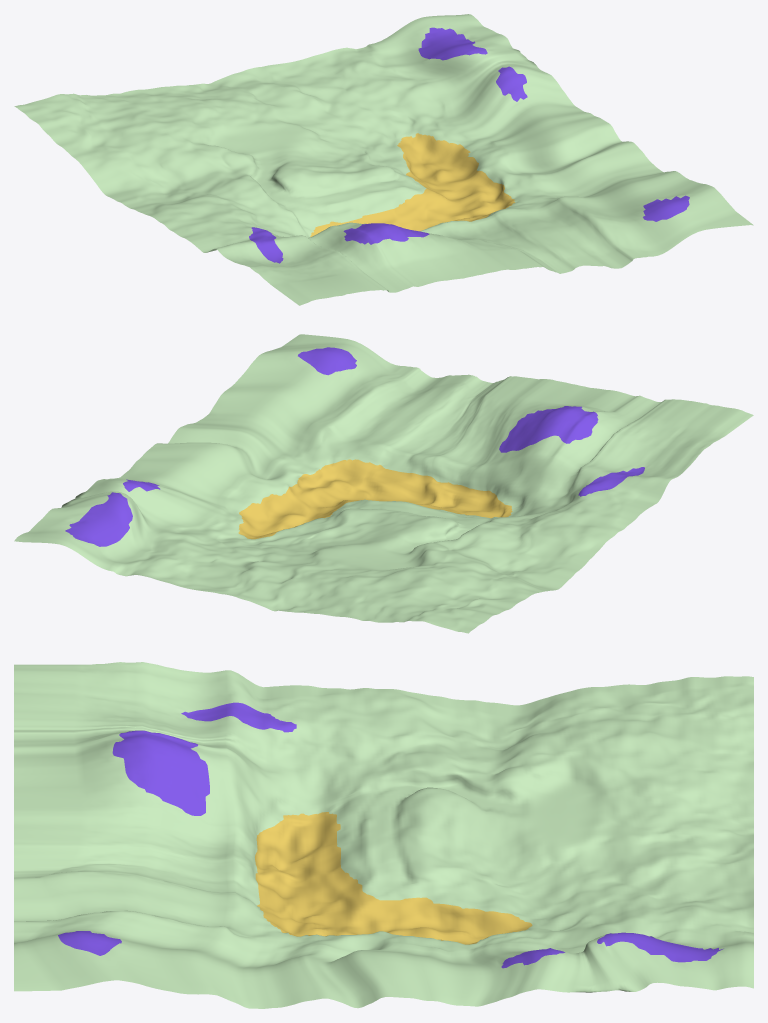
The model's file is Level.fbx.
The picture shows the model from 3 angles, top to bottom: view 1: azimuth 30°, elevation 25°; view 2: azimuth 150°, elevation 25°; view 3: azimuth 270°, elevation 25°; orthographic projection. The views are drawn at different scales.
Visible parts, largest first — view 1: Plane; view 2: Plane; view 3: Plane.
Boxes of the visible parts, x1,y1,x2,y2 form: Plane: [14, 14, 753, 305]; Plane: [14, 334, 753, 633]; Plane: [14, 662, 753, 1008].
Size of the model in its own units: 16550 by 2534 by 17952.
